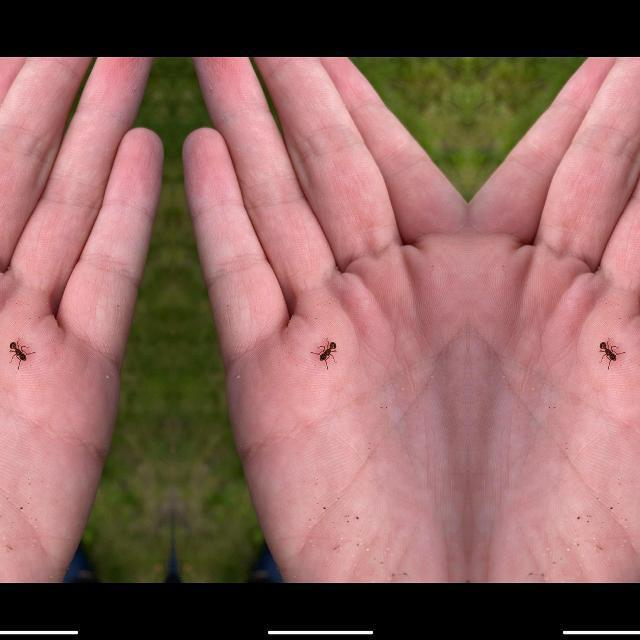Myrmica: (315, 332, 339, 370), (5, 332, 29, 370), (596, 332, 620, 370)
